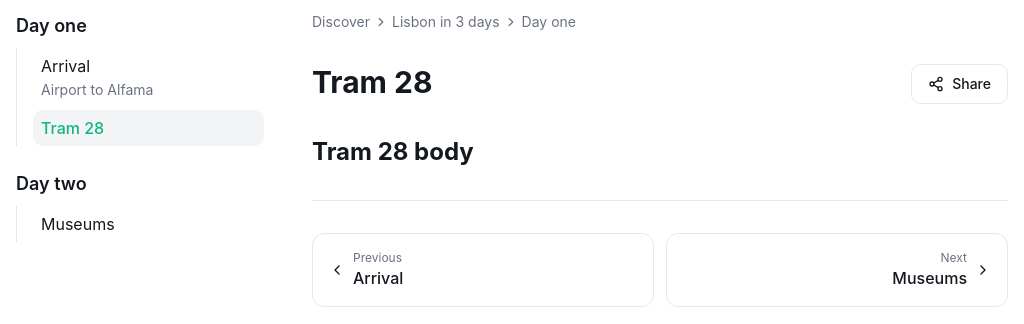
Scenario: PageView: the reading view › previous/next cross module boundaries and navigate in the same component
Click the link with aria-label "Next: Museums". click: coordinates (930, 278)
box: [666,233,1008,307]
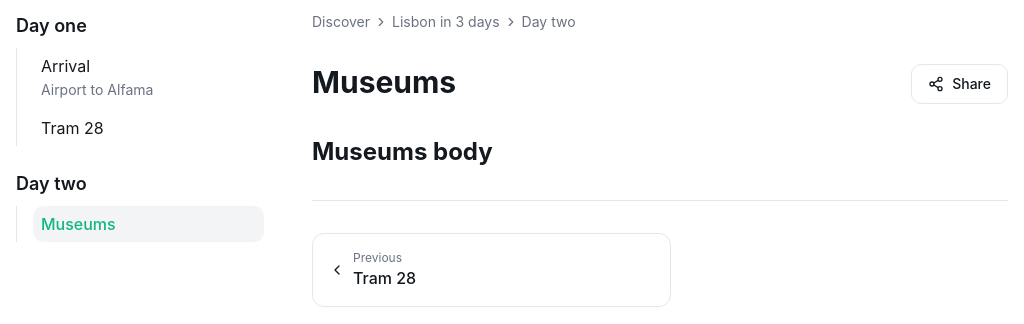
Expected: the link with aria-label "Previous: Tram 28" is shown, [312,233,671,307]
